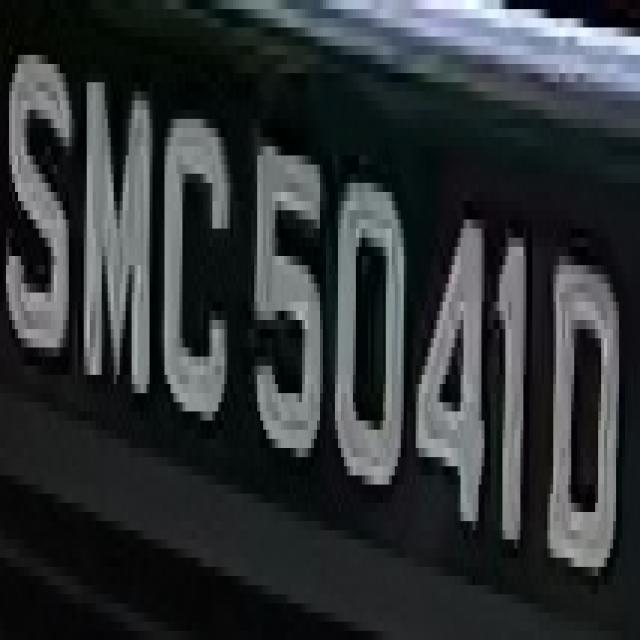0: (329, 128, 419, 503)
1: (488, 210, 538, 558)
4: (418, 201, 491, 558)
5: (248, 137, 329, 466)
C: (156, 100, 239, 430)
D: (535, 201, 619, 622)
M: (81, 73, 164, 402)
S: (3, 27, 72, 384)
